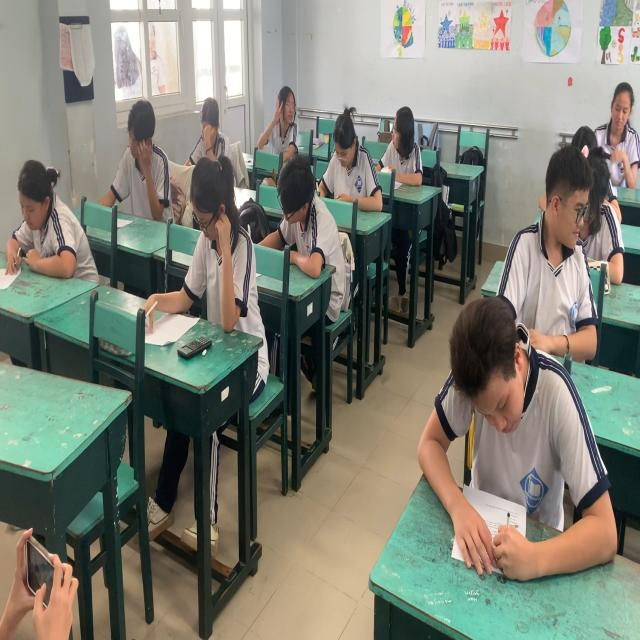cheating: (472, 147, 592, 309), (375, 95, 437, 204), (254, 61, 310, 161)
not_cheating: (384, 216, 589, 520), (160, 85, 244, 332), (1, 101, 86, 283), (543, 104, 629, 270), (242, 97, 327, 263), (100, 82, 182, 241), (563, 57, 640, 202), (314, 90, 379, 246), (178, 101, 228, 198)
